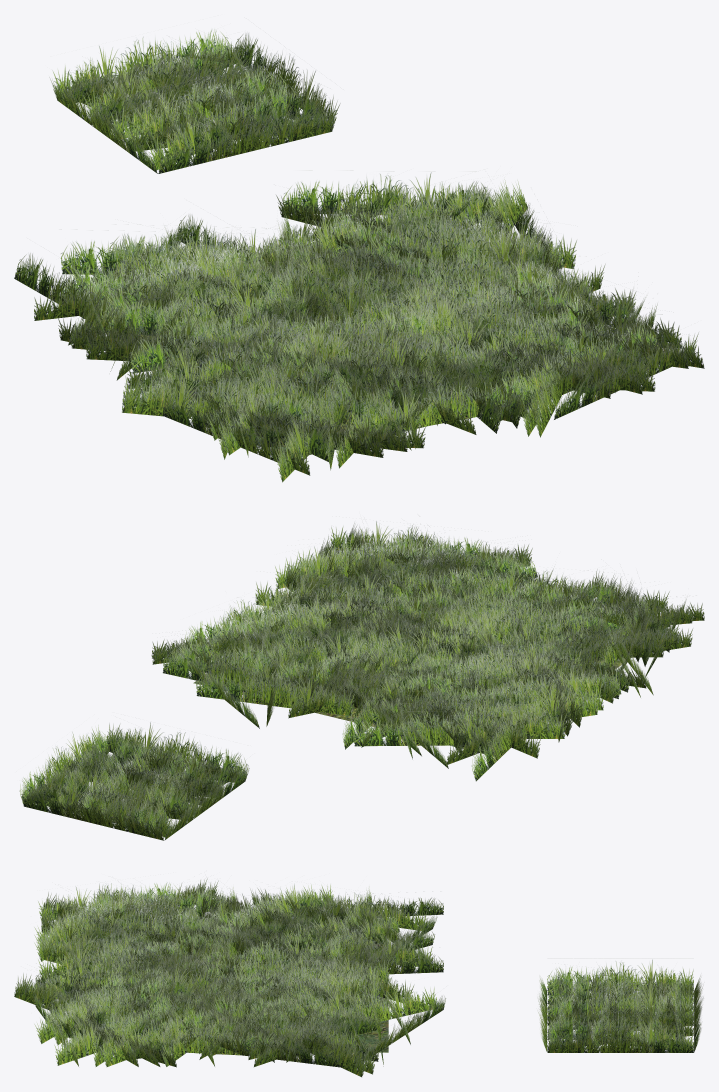
File: Grass_claster_Downoad_Like_please.glb
3 renders of one model, top to bottom at view 1: azimuth 30°, elevation 25°; view 2: azimuth 150°, elevation 25°; view 3: azimuth 270°, elevation 25°, orthographic. The views are drawn at different scales.
Parts seen in each view (by area): view 1: unnamed (×2); view 2: unnamed (×2); view 3: unnamed (×2).
Part boxes in pixels (x1=…): unnamed (×2): x1=14, y1=29, x2=704, y2=482; unnamed (×2): x1=19, y1=521, x2=704, y2=840; unnamed (×2): x1=14, y1=878, x2=703, y2=1077.
Size of the model in its own units: 3.98 by 0.2832 by 6.35.
Materials: 2 (2 with a texture image).
